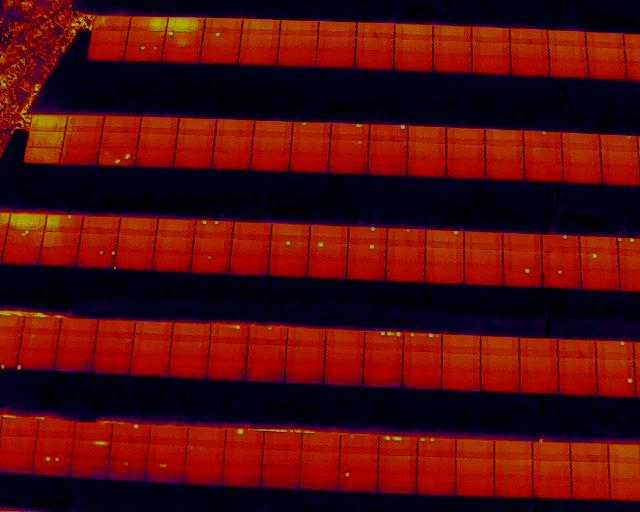Cell: (340, 471, 378, 492), (247, 325, 286, 345), (147, 463, 185, 483), (532, 440, 570, 460), (596, 378, 636, 397), (542, 269, 581, 288), (191, 254, 230, 273), (271, 241, 310, 260), (340, 434, 379, 453), (109, 461, 146, 481), (210, 325, 248, 344), (426, 228, 464, 247), (502, 268, 542, 286), (112, 424, 149, 443), (542, 235, 581, 253), (386, 228, 425, 246), (369, 124, 408, 142), (115, 251, 153, 269), (309, 241, 347, 259), (595, 341, 633, 359), (18, 352, 56, 370), (580, 253, 617, 271), (347, 244, 386, 261), (348, 227, 387, 244), (599, 135, 638, 152), (225, 431, 263, 448), (293, 122, 331, 139), (46, 215, 82, 232), (331, 124, 369, 140), (523, 131, 561, 147), (164, 31, 203, 46), (202, 32, 241, 47)
Cell-Multi: (418, 437, 456, 457), (379, 436, 417, 456), (403, 333, 442, 352), (33, 457, 71, 476), (365, 332, 404, 350), (195, 220, 234, 238), (78, 248, 114, 267), (194, 238, 233, 255), (5, 230, 43, 247), (330, 141, 368, 158), (97, 150, 136, 166), (124, 46, 163, 61)
No-Anomaly: (150, 423, 187, 446), (187, 425, 225, 447), (364, 350, 403, 371), (377, 473, 417, 493), (229, 256, 269, 276), (494, 440, 533, 460), (285, 366, 324, 386), (580, 270, 620, 289), (308, 259, 348, 278), (569, 443, 609, 462), (403, 351, 441, 371), (325, 348, 363, 368), (206, 361, 246, 380), (347, 261, 386, 280), (417, 475, 456, 494), (233, 222, 272, 241), (300, 471, 339, 490), (185, 447, 224, 466), (533, 479, 572, 498), (456, 477, 495, 496), (571, 481, 610, 500), (185, 466, 224, 485), (247, 345, 286, 364), (152, 252, 193, 270), (171, 324, 209, 343), (224, 467, 262, 486), (519, 358, 557, 377), (557, 339, 595, 358), (480, 337, 518, 356), (464, 268, 504, 286), (268, 259, 308, 277), (208, 344, 248, 362), (71, 460, 108, 479), (559, 377, 596, 396), (495, 478, 534, 496), (386, 264, 425, 282), (22, 318, 61, 336), (456, 458, 495, 476), (325, 330, 364, 348), (464, 249, 503, 267), (425, 247, 464, 265), (503, 233, 542, 251), (417, 457, 456, 475), (329, 158, 368, 176), (456, 440, 495, 458), (92, 356, 131, 374), (286, 347, 325, 365), (596, 360, 635, 378), (324, 369, 363, 387), (245, 365, 284, 383), (134, 323, 172, 341), (148, 446, 186, 464), (302, 452, 340, 470), (533, 461, 571, 479), (579, 235, 617, 253), (481, 357, 519, 375), (407, 144, 445, 162), (558, 359, 596, 377), (0, 437, 36, 456), (602, 167, 640, 185), (302, 434, 340, 452), (519, 339, 557, 357), (425, 266, 465, 283), (129, 359, 169, 376), (132, 342, 172, 359), (173, 152, 213, 169), (168, 360, 208, 377), (170, 342, 210, 359), (110, 443, 147, 461), (40, 247, 77, 265), (263, 467, 300, 485), (408, 127, 445, 145), (443, 337, 480, 355), (472, 57, 511, 74), (96, 322, 135, 339), (271, 224, 310, 241), (263, 450, 302, 467), (378, 455, 417, 472), (494, 461, 533, 478), (387, 247, 426, 264), (446, 146, 485, 163), (54, 355, 93, 372), (441, 356, 480, 373), (368, 159, 407, 176), (26, 131, 65, 148), (251, 154, 290, 171), (441, 374, 480, 391), (481, 376, 520, 393), (291, 139, 330, 156), (215, 120, 254, 137), (363, 371, 402, 388), (571, 463, 609, 480), (58, 319, 96, 336), (224, 449, 262, 466), (464, 232, 502, 249), (340, 454, 378, 471), (403, 372, 441, 389), (520, 377, 558, 394), (157, 219, 195, 236), (264, 433, 302, 450), (485, 148, 523, 165), (120, 217, 158, 234), (0, 456, 35, 474), (287, 329, 324, 346), (38, 421, 75, 438), (36, 438, 73, 455), (0, 419, 37, 436), (485, 130, 522, 147), (433, 56, 472, 72), (278, 50, 317, 66), (56, 338, 95, 354), (155, 236, 194, 252), (162, 46, 201, 62), (503, 252, 542, 268), (92, 15, 131, 31), (94, 339, 133, 355), (175, 135, 214, 151), (407, 162, 446, 178), (290, 157, 329, 173), (62, 133, 101, 149), (241, 34, 280, 50), (138, 134, 177, 150), (253, 122, 292, 138), (140, 118, 179, 134), (64, 117, 103, 133), (9, 213, 45, 230), (433, 26, 471, 42), (310, 225, 348, 241), (2, 248, 40, 264), (317, 50, 355, 66), (512, 58, 550, 74), (20, 336, 58, 352), (102, 117, 140, 133), (524, 149, 562, 165), (561, 134, 599, 150), (524, 165, 562, 181), (446, 129, 484, 145), (177, 119, 215, 135), (136, 151, 174, 167), (230, 240, 270, 255), (251, 139, 291, 154), (75, 423, 112, 439), (81, 217, 118, 233), (562, 151, 599, 167), (355, 51, 394, 66), (549, 60, 588, 75), (239, 49, 278, 64), (201, 47, 240, 62), (588, 62, 627, 77), (542, 254, 581, 269), (214, 138, 253, 153), (60, 149, 99, 164), (600, 152, 639, 167), (212, 154, 251, 169), (485, 165, 524, 180), (446, 163, 485, 178), (548, 31, 587, 46), (100, 134, 139, 149), (88, 45, 126, 60), (357, 23, 395, 38), (242, 19, 280, 34), (318, 21, 356, 36), (280, 21, 318, 36), (129, 17, 167, 32), (117, 234, 155, 249), (43, 232, 81, 247), (30, 116, 68, 131), (472, 28, 510, 43), (369, 143, 407, 158), (510, 30, 548, 45), (562, 167, 602, 181), (394, 53, 433, 67), (472, 43, 511, 57), (394, 24, 433, 38), (586, 34, 625, 48), (24, 148, 60, 163), (433, 42, 471, 56), (395, 39, 433, 53), (127, 31, 165, 45), (279, 36, 317, 50), (548, 47, 588, 60), (79, 233, 116, 247), (204, 18, 241, 32), (587, 48, 626, 61), (317, 36, 356, 49), (511, 45, 549, 58), (166, 18, 204, 31), (90, 32, 128, 45), (356, 37, 394, 49)
Unclassified: (73, 440, 109, 460)
